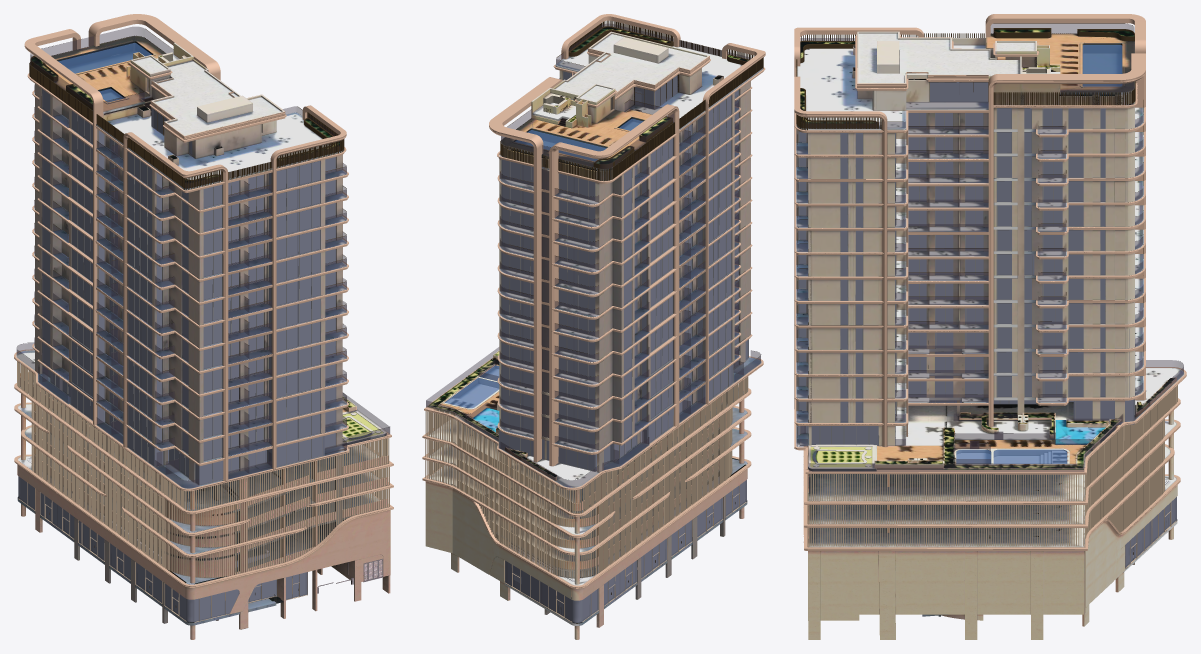
File: Fay_Residence_build.glb
3 renders of one model, left to right at view 1: azimuth 30°, elevation 25°; view 2: azimuth 150°, elevation 25°; view 3: azimuth 270°, elevation 25°, orthographic. The views are drawn at different scales.
Parts seen in each view (by area): view 1: Al_Jaddaf_build; view 2: Al_Jaddaf_build; view 3: Al_Jaddaf_build.
Boxes of the visible parts, x1,y1,x2,y2 form: Al_Jaddaf_build: (14,14,393,639); Al_Jaddaf_build: (422,14,765,639); Al_Jaddaf_build: (794,14,1186,639).
Size of the model in its own units: 37.94 by 84.49 by 56.75.
21 materials, 4 textured.
